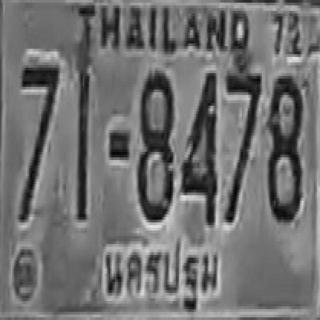N01: (76, 64, 91, 218)
N04: (181, 69, 217, 224)
N07: (18, 62, 58, 220), (224, 68, 260, 222)
N08: (136, 69, 173, 221), (266, 73, 302, 222)
